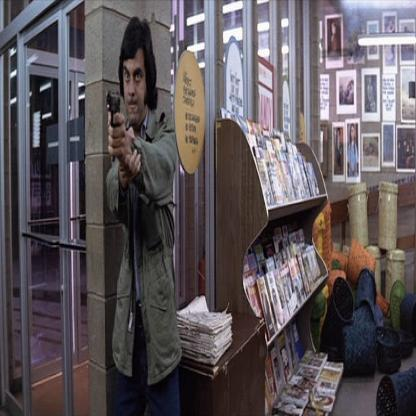gun: (99, 81, 129, 148)
